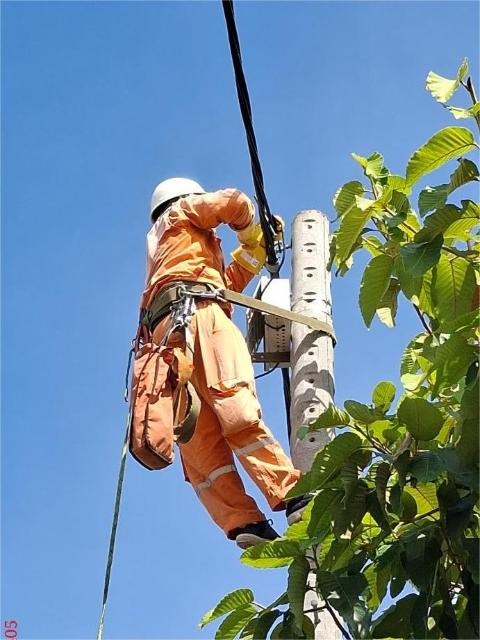gloves: (238, 202, 293, 275), (230, 212, 264, 255)
harness: (127, 284, 258, 322)
helmet: (149, 175, 214, 212)
shoes: (226, 503, 291, 562), (265, 487, 334, 533)
